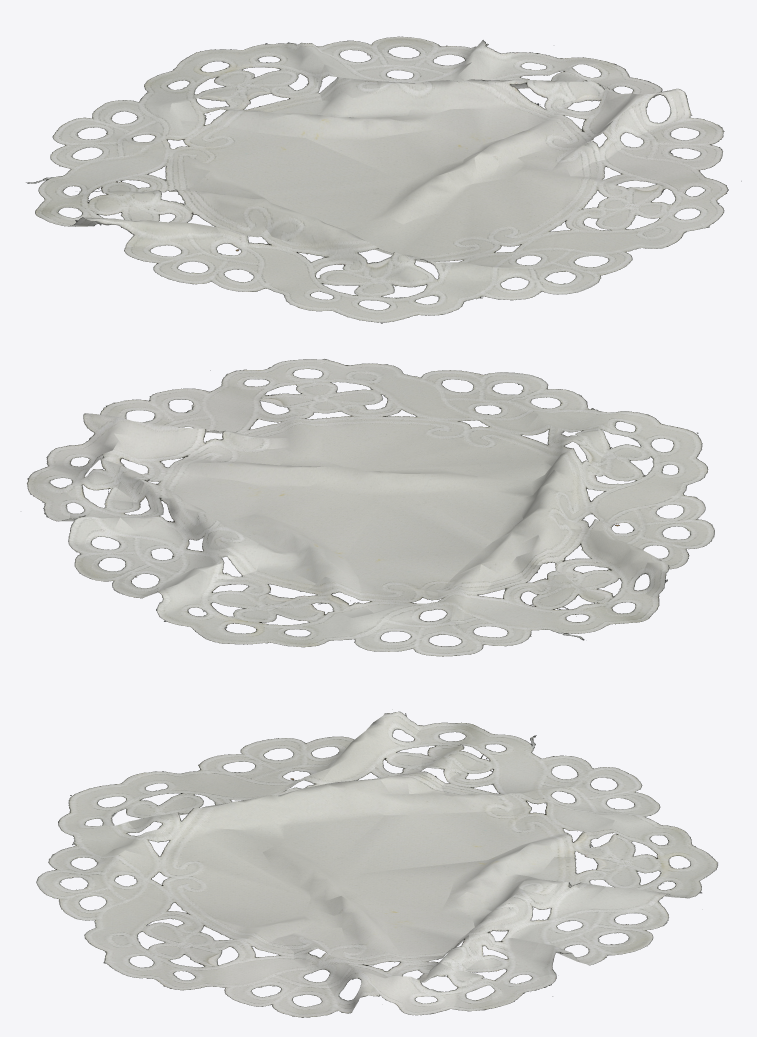
Rendered from fabric_lace2.fbx.
3 renders of one model, top to bottom at view 1: azimuth 30°, elevation 25°; view 2: azimuth 150°, elevation 25°; view 3: azimuth 270°, elevation 25°, orthographic. The views are drawn at different scales.
Visible parts, largest first — view 1: fabric_lace2; view 2: fabric_lace2; view 3: fabric_lace2.
Boxes of the visible parts, x1,y1,x2,y2 form: fabric_lace2: [26, 36, 741, 323]; fabric_lace2: [27, 359, 714, 656]; fabric_lace2: [36, 711, 717, 1017].
Bounding box in the file's own units: 29.18 × 1.06 × 29.74.
